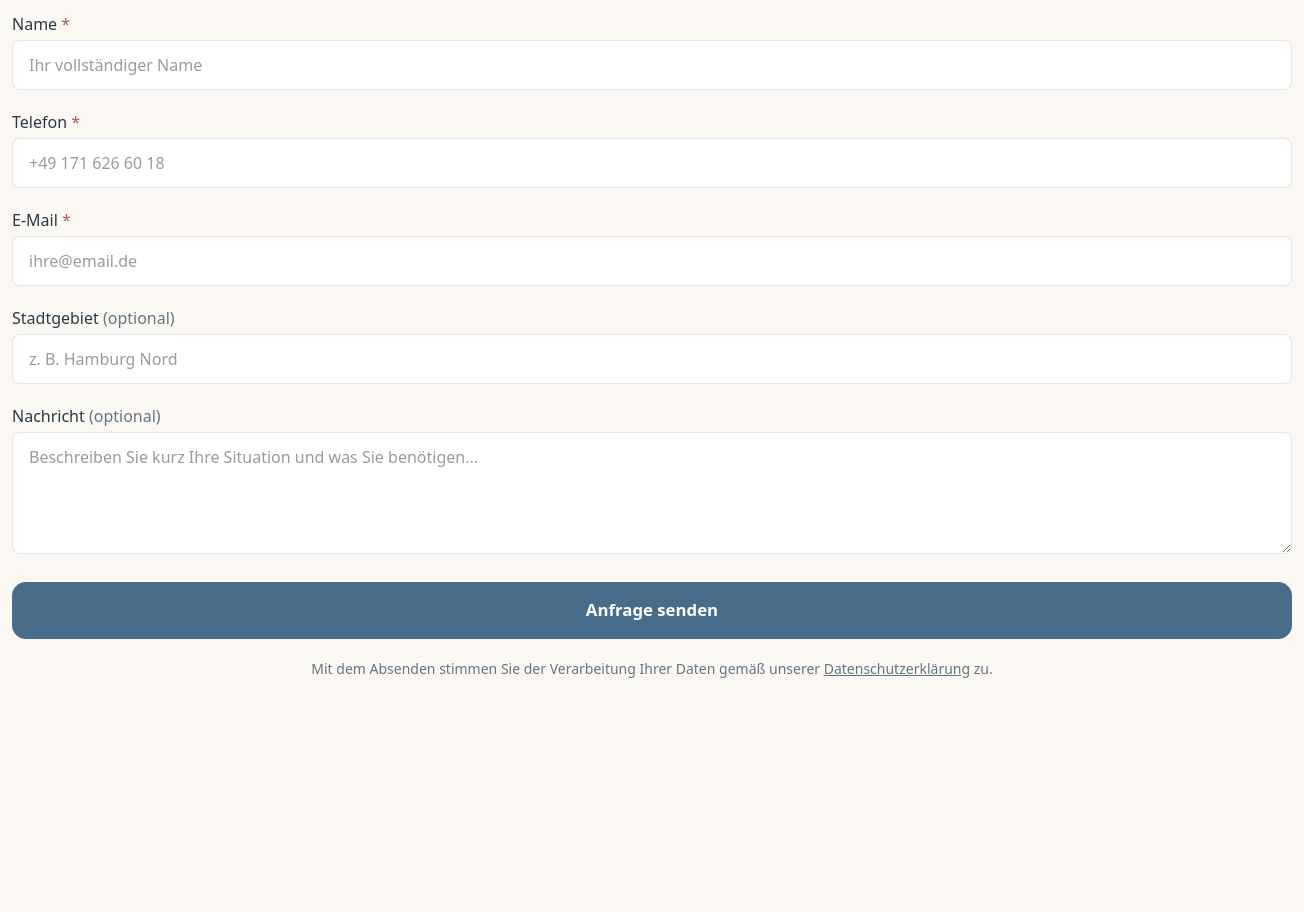
Test: ContactForm › client-side validation › shows name error on blur with short name
Type "A" into the field labelled "Name *". click: coordinates (652, 65)
box: top-left (12, 40), bottom-right (1292, 90)
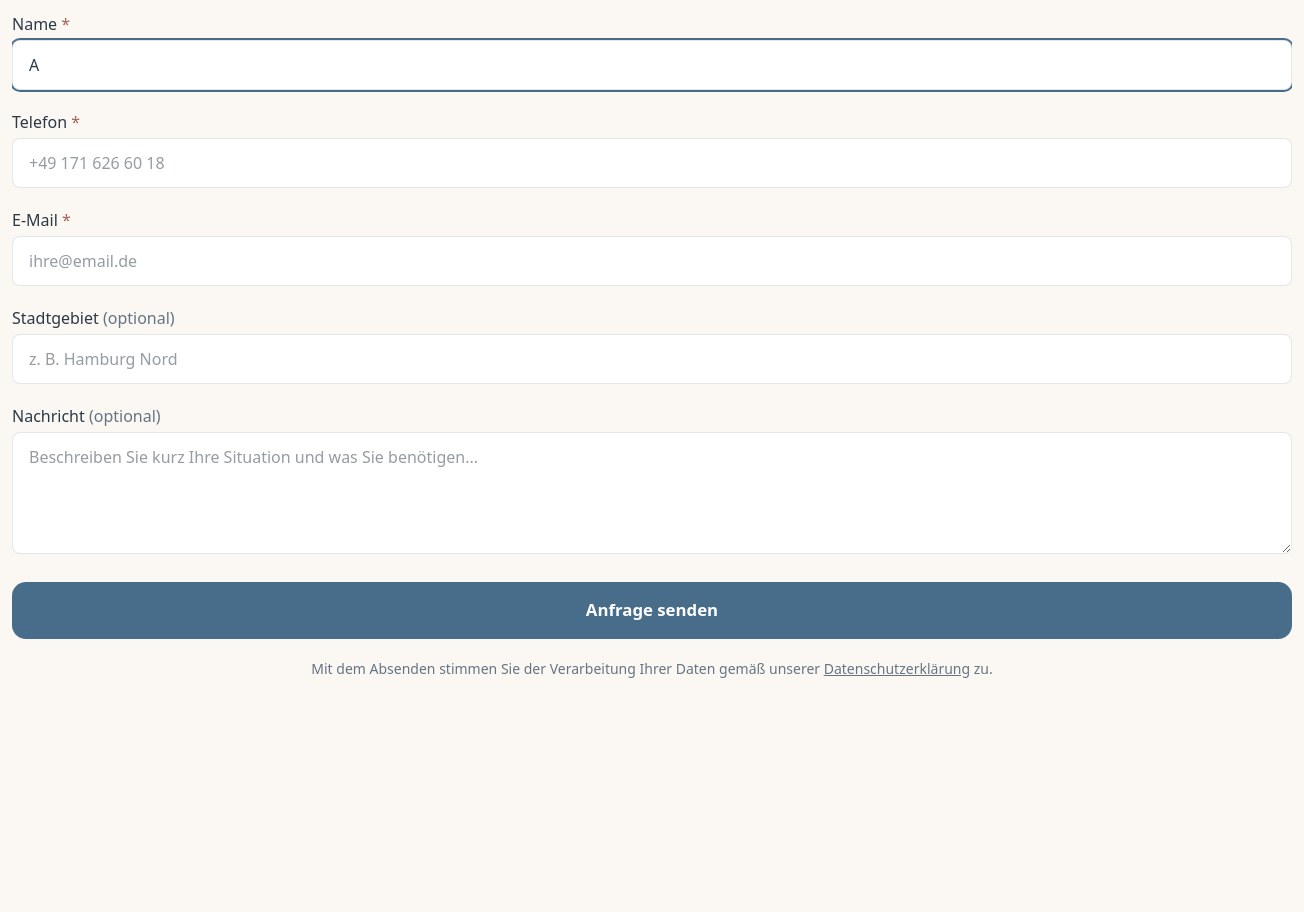
Press Tab
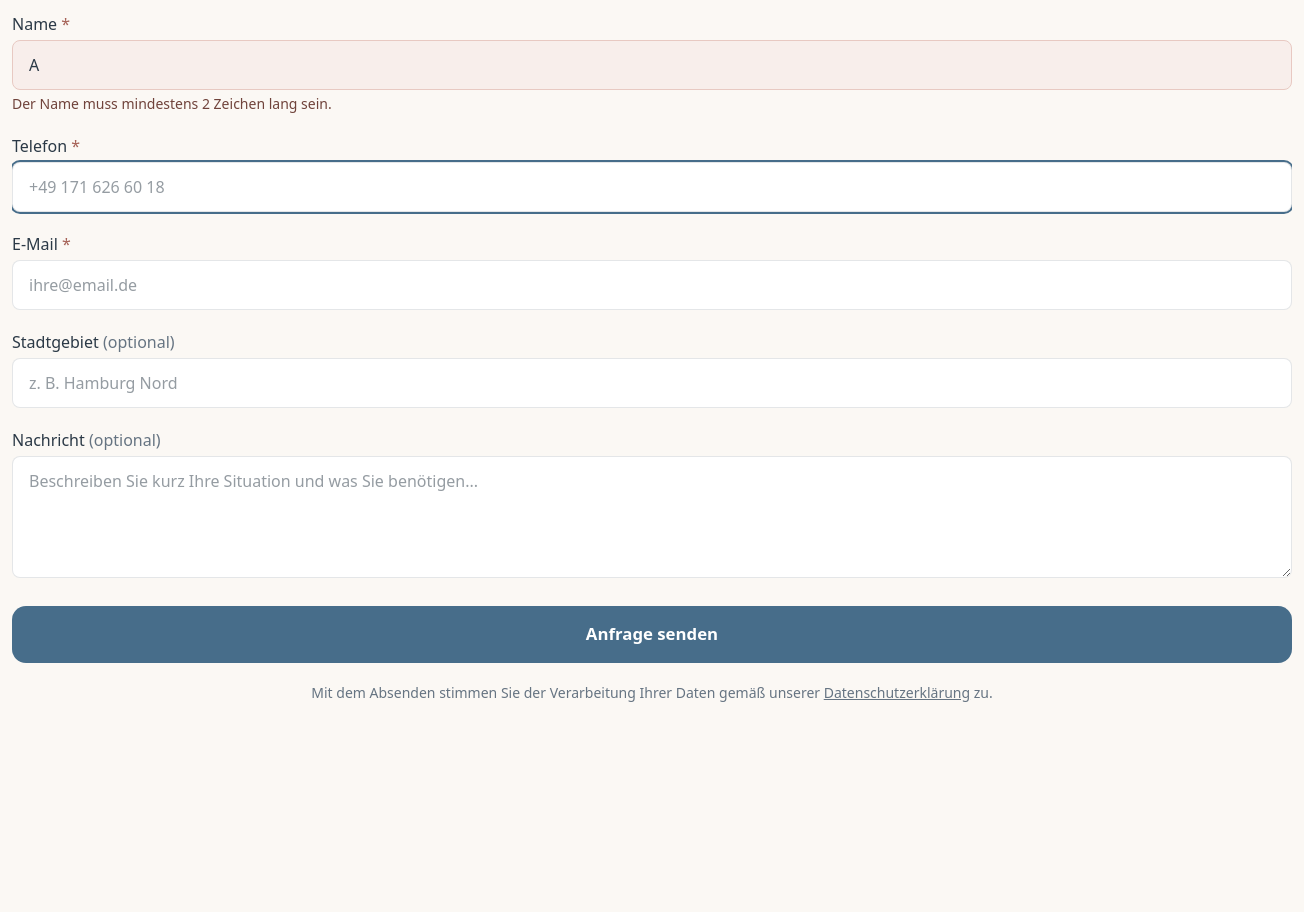
Expected: the text "Der Name muss mindestens 2 Zeichen lang sein." is shown, top-left (12, 94), bottom-right (332, 113)
